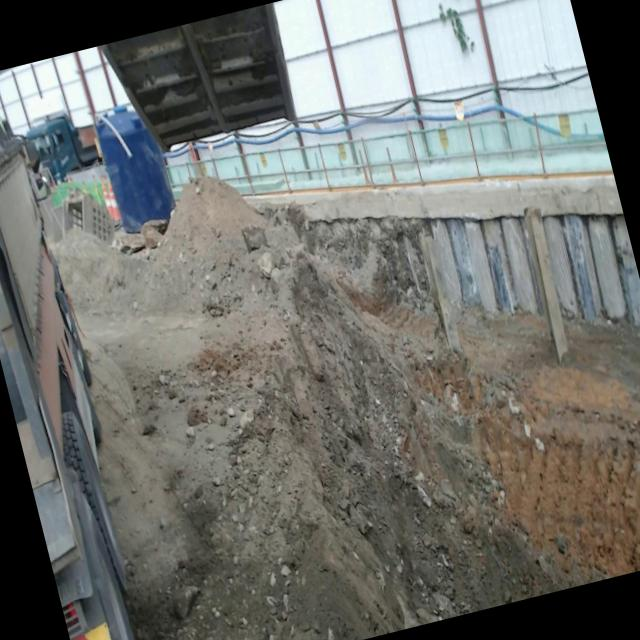cement: (245, 172, 623, 221)
red-sand: (57, 180, 640, 640)
